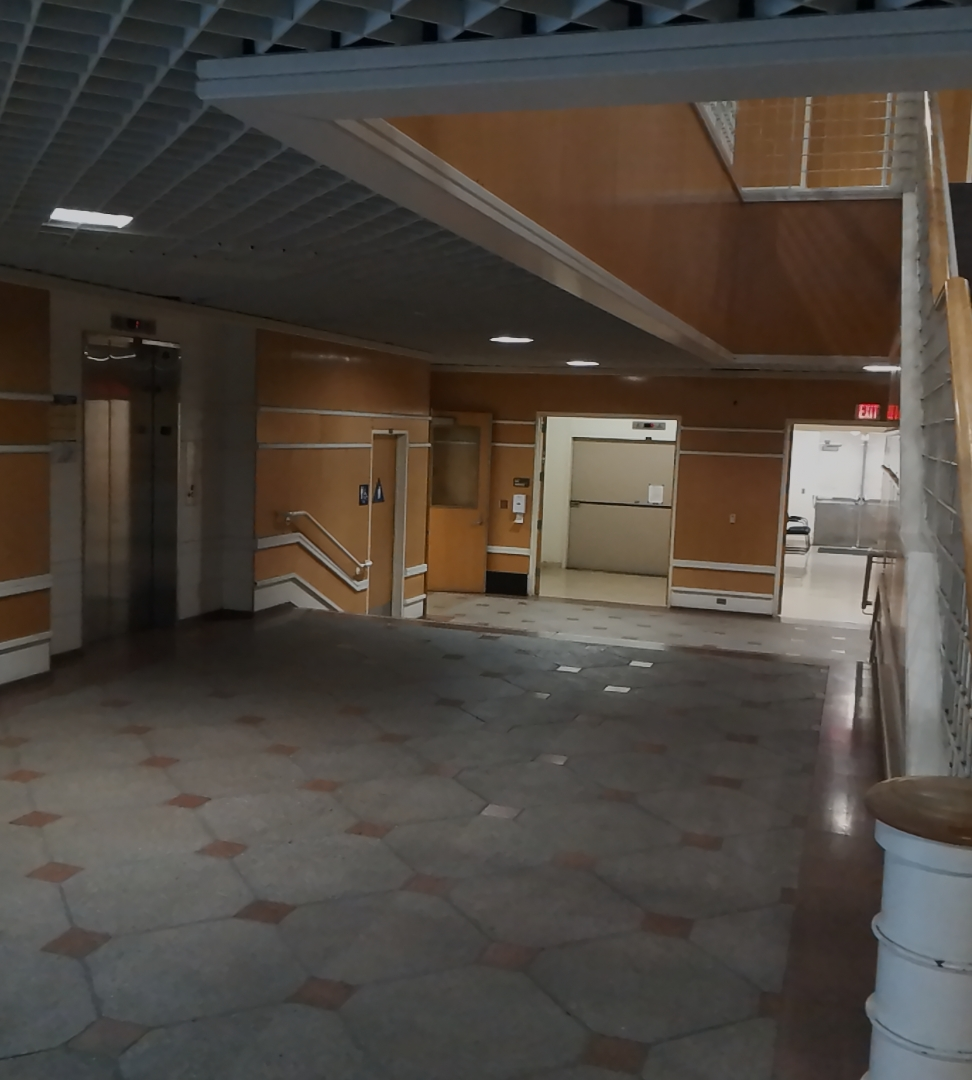emergency_exit: (854, 400, 881, 421)
